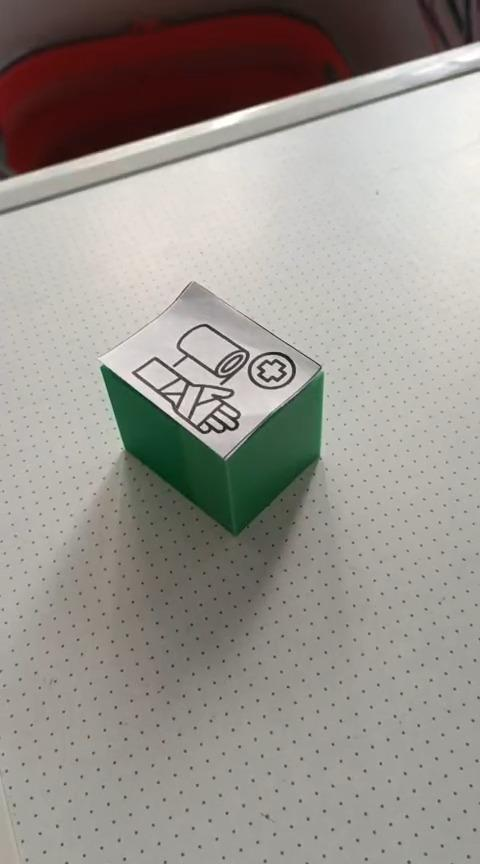Bandages: (99, 278, 324, 537)
